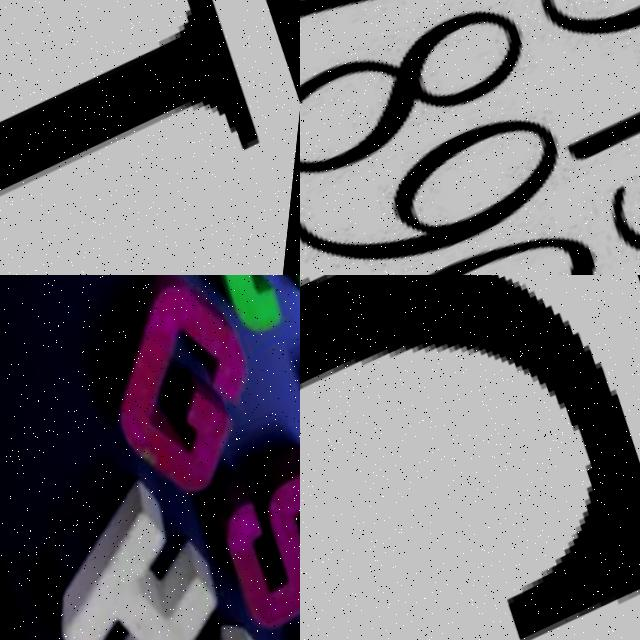0: (330, 210, 627, 275)
4: (541, 0, 640, 196)
7: (300, 0, 512, 90)
8: (300, 0, 552, 200)
9: (300, 96, 590, 275)
C: (300, 275, 640, 634), (174, 275, 300, 362)
G: (66, 275, 300, 530)
H: (28, 466, 267, 640)
I: (0, 0, 264, 203)
S: (194, 430, 300, 640)
